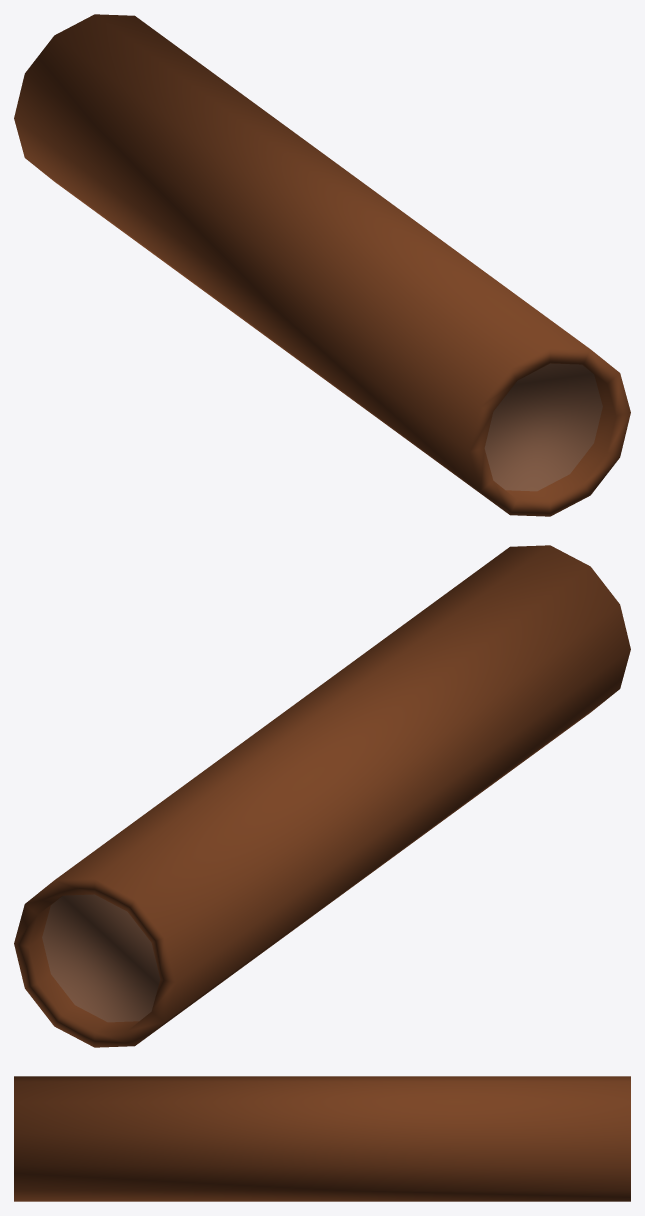
The model's file is Wood Pallet.fbx.
The picture shows the model from 3 angles, top to bottom: view 1: azimuth 30°, elevation 25°; view 2: azimuth 150°, elevation 25°; view 3: azimuth 270°, elevation 25°; orthographic projection. The views are drawn at different scales.
Parts seen in each view (by area): view 1: Circle; view 2: Circle; view 3: Circle.
Part boxes in pixels (box(x1,y1,x2,y2)): Circle: box(14, 14, 630, 516); Circle: box(14, 545, 630, 1047); Circle: box(14, 1076, 630, 1201).
Size of the model in its own units: 139 by 679 by 139.
